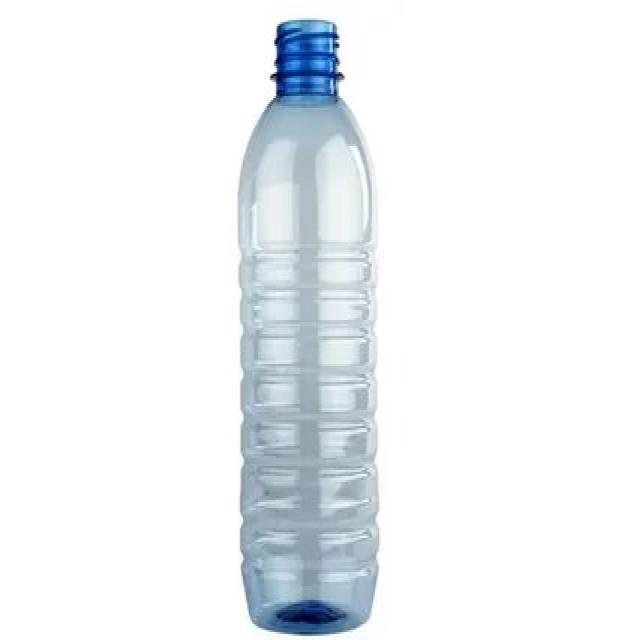blue: (238, 16, 378, 632)
